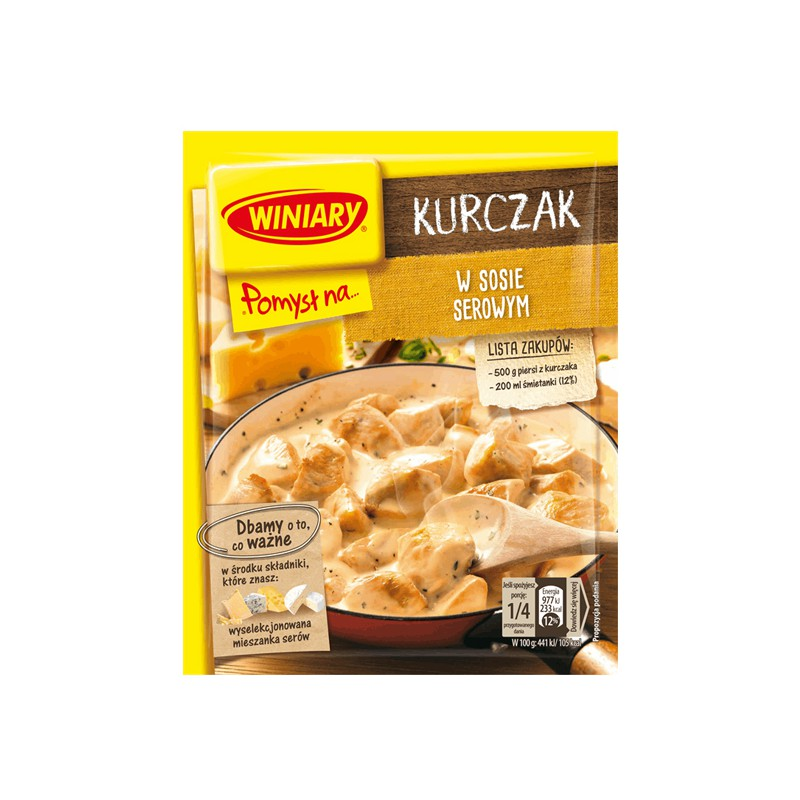cheese: (270, 402, 494, 557)
